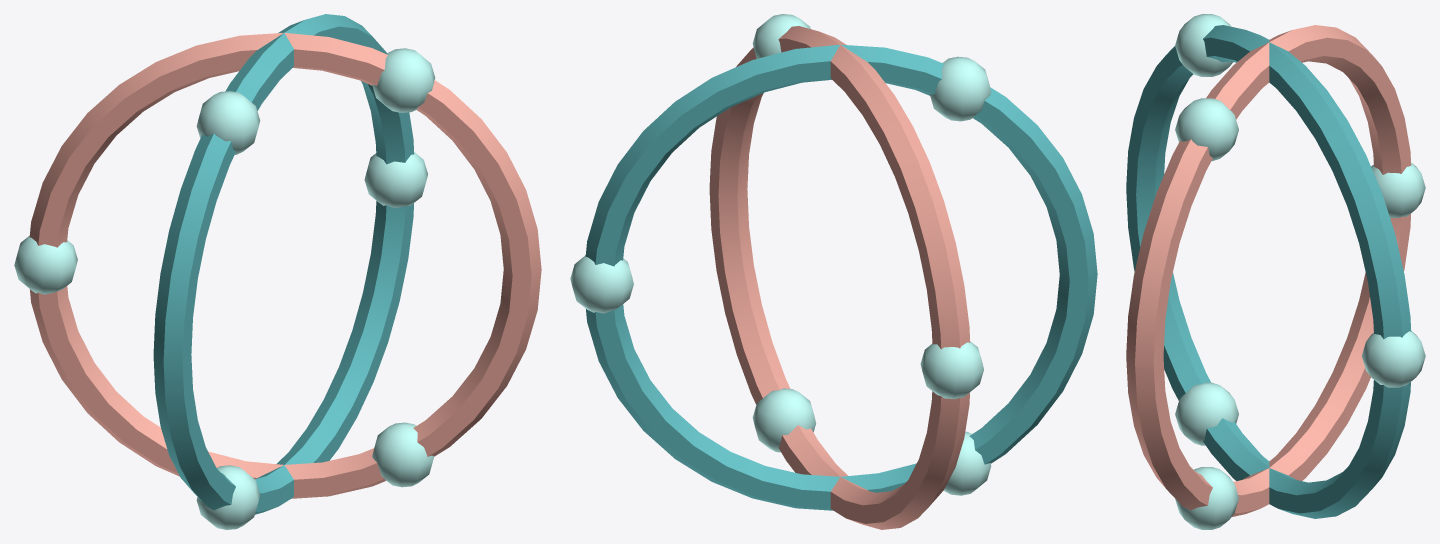
Rendered from ic_fabricator_rings.glb.
3 views of the same model, side by side, from view 1: azimuth 30°, elevation 25°; view 2: azimuth 150°, elevation 25°; view 3: azimuth 270°, elevation 25° (orthographic).
Visible parts, largest first — view 1: ic_fabricator_rings; view 2: ic_fabricator_rings; view 3: ic_fabricator_rings.
Boxes of the visible parts, <box> form: ic_fabricator_rings: <box>14,14,541,529</box>; ic_fabricator_rings: <box>570,14,1097,529</box>; ic_fabricator_rings: <box>1126,14,1425,529</box>.
Size of the model in its own units: 0.086 by 0.095 by 0.0561.
